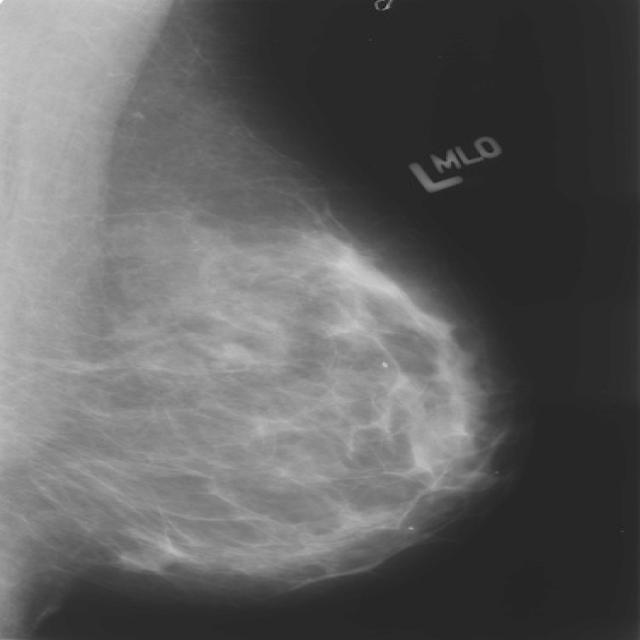tumour: (112, 544, 174, 573)
